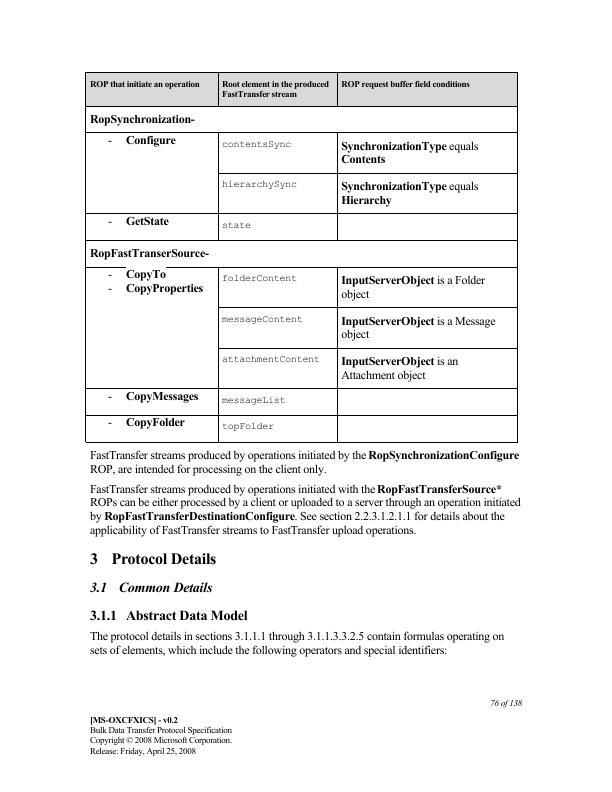table: (83, 70, 518, 442)
text: (86, 484, 523, 536), (88, 448, 520, 476), (87, 629, 505, 656), (86, 711, 234, 758), (86, 606, 248, 624), (86, 549, 218, 566), (86, 579, 213, 596), (487, 696, 524, 711)
